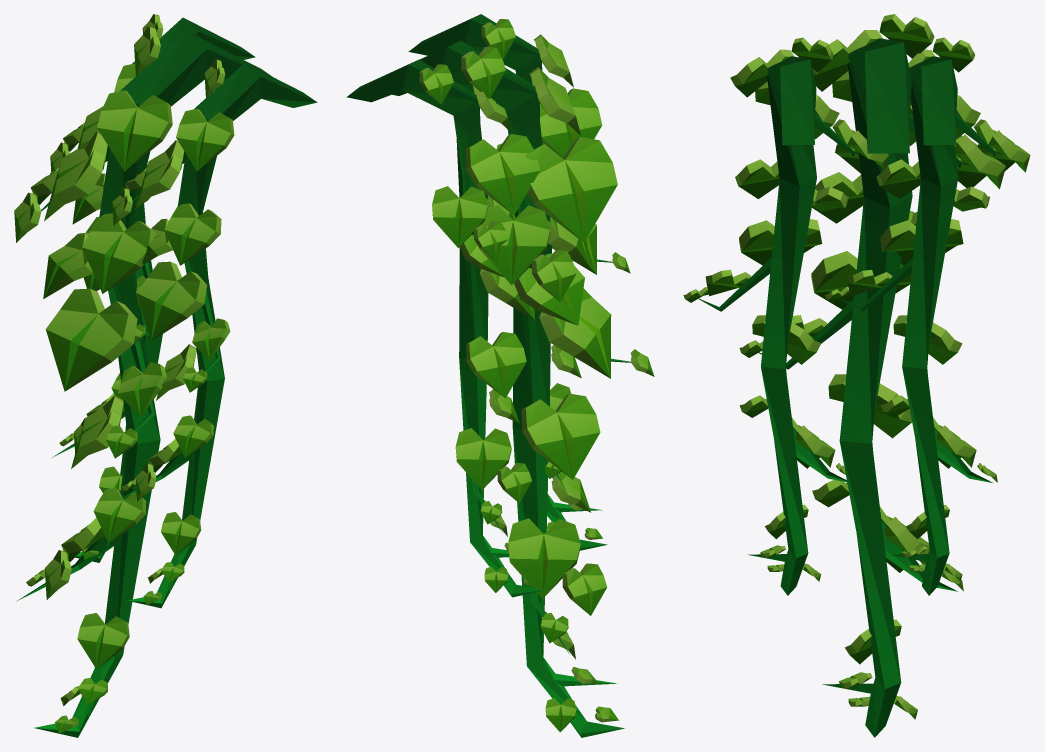
Rendered from vine001.gltf.
3 views of the same model, side by side, from view 1: azimuth 30°, elevation 25°; view 2: azimuth 150°, elevation 25°; view 3: azimuth 270°, elevation 25° (orthographic). The views are drawn at different scales.
Parts seen in each view (by area): view 1: node_vine001_-136670; view 2: node_vine001_-136670; view 3: node_vine001_-136670.
Boxes of the visible parts, x1,y1,x2,y2 form: node_vine001_-136670: (14, 14, 317, 737); node_vine001_-136670: (346, 14, 654, 737); node_vine001_-136670: (683, 14, 1030, 737).
Size of what is drawn, in the model's own units: 0.9235 by 2.44 by 0.9964.
1 material, 1 textured.
